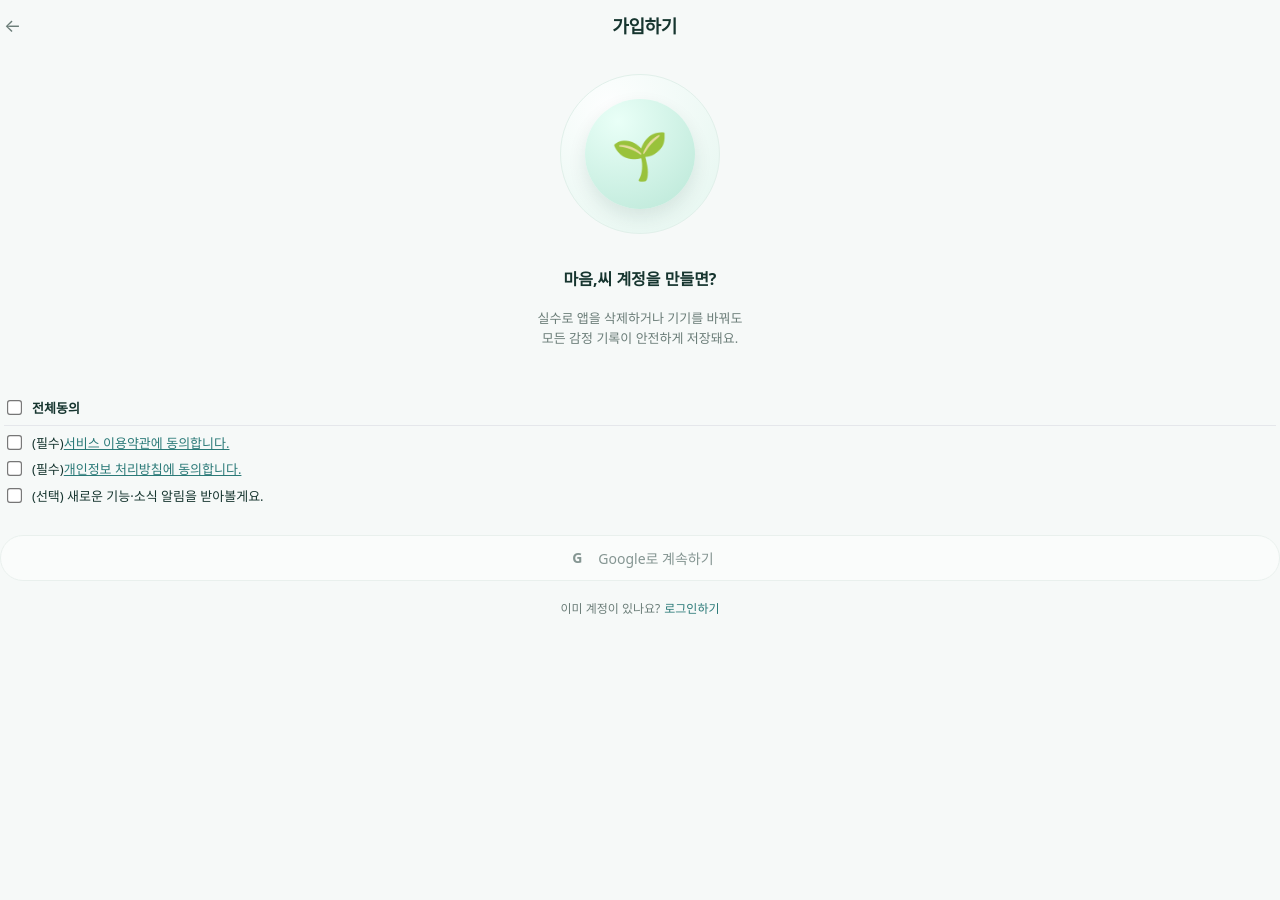
Test: SignupOnboardingStep › 회원약관 모달 › 개인정보 처리방침 문구 클릭 시 모달이 열려야 함
Click the button "개인정보 처리방침에 동의합니다.": (153, 470) left=60, top=458, right=245, bottom=481
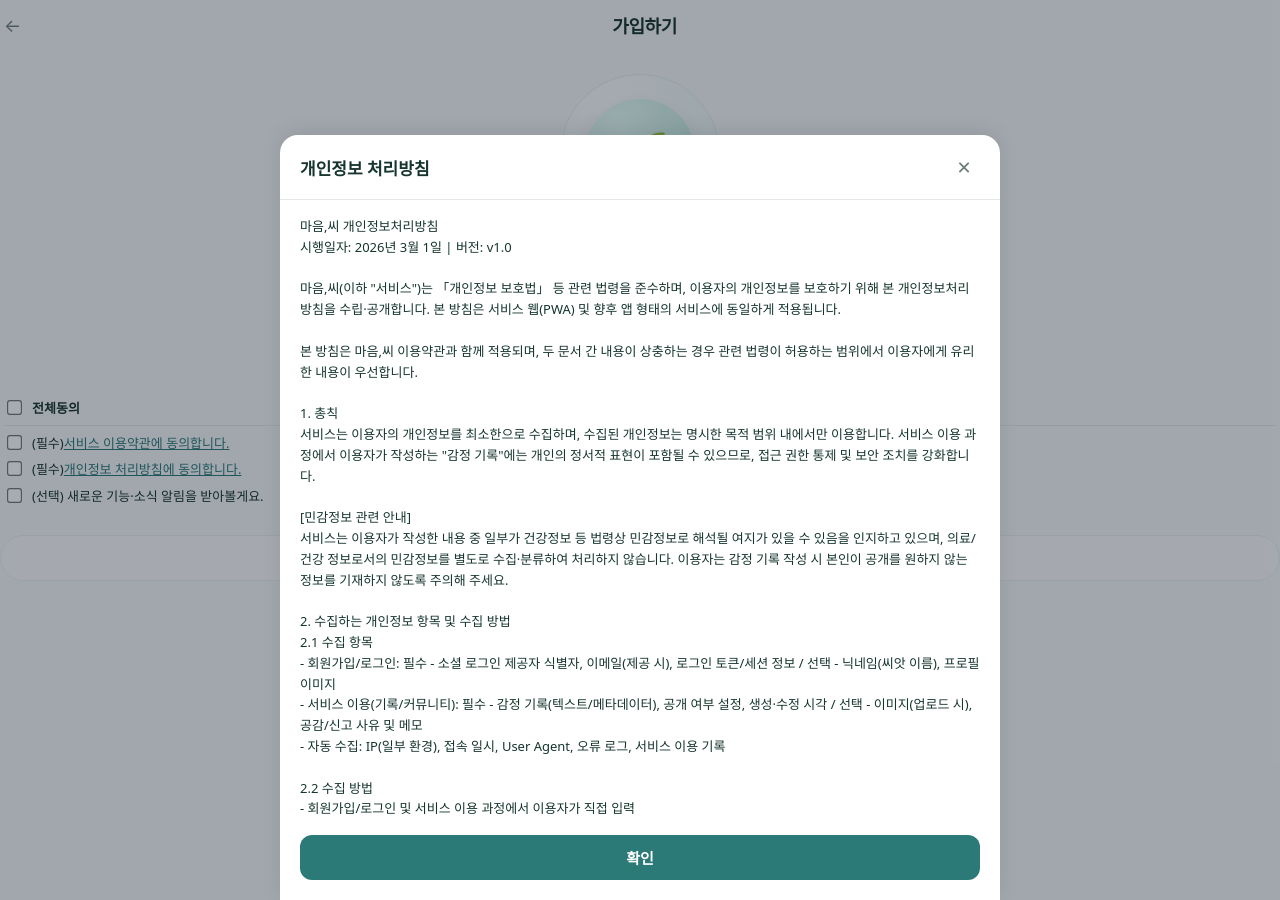
expect the dialog "개인정보 처리방침" is shown: met
expect the heading "개인정보 처리방침" is shown: met, box left=300, top=154, right=430, bottom=180
